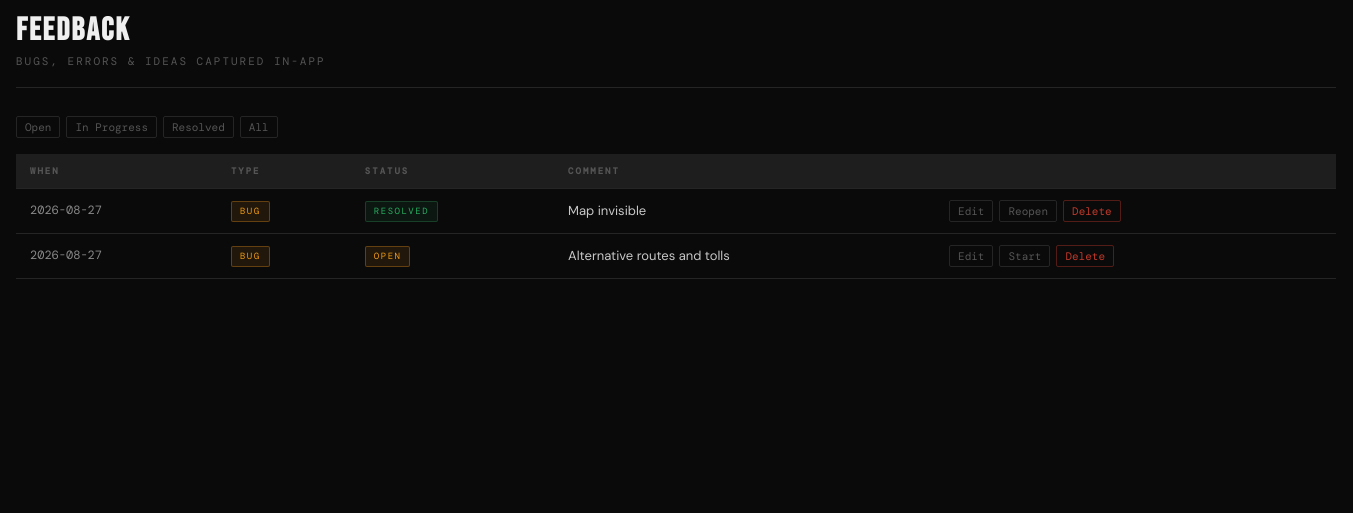
Test: Feedback resolution workflow › shows duplicate resolution evidence and its canonical report in details
Click the row "2026-08-27 bug resolved Map invisible Edit Reopen Delete". click: (676, 211)
box: [16, 188, 1336, 234]
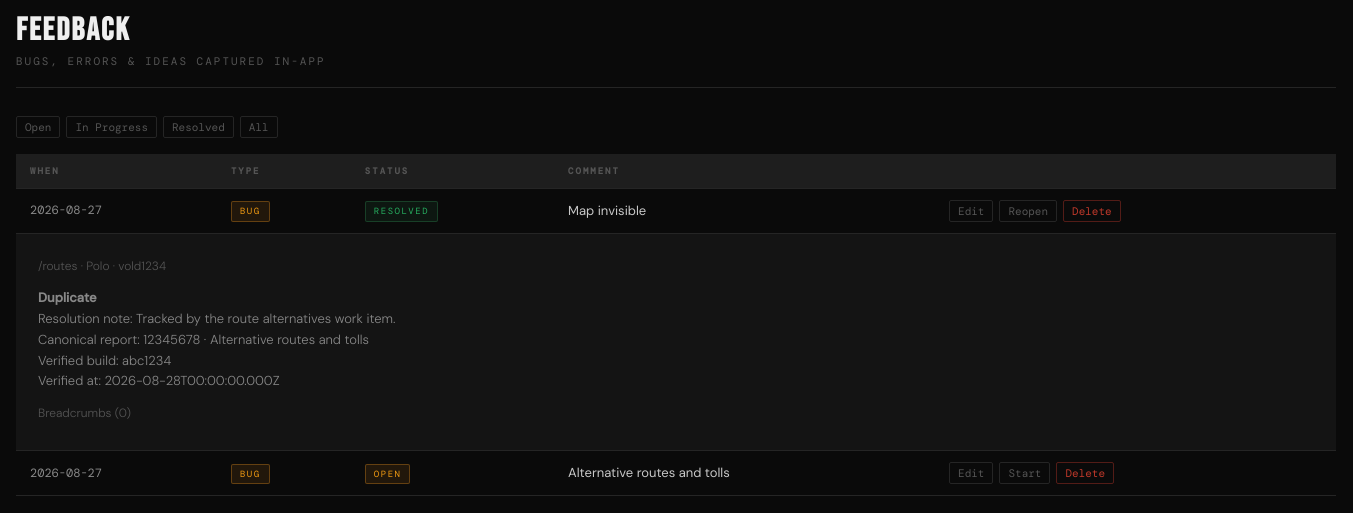
Now the text "Duplicate" is shown, box [38, 289, 96, 306]
Now the text "Tracked by the route alternatives work item." is shown, box [136, 310, 395, 327]
Now the text "Canonical report: 12345678 · Alternative routes and tolls" is shown, box [38, 331, 369, 348]
